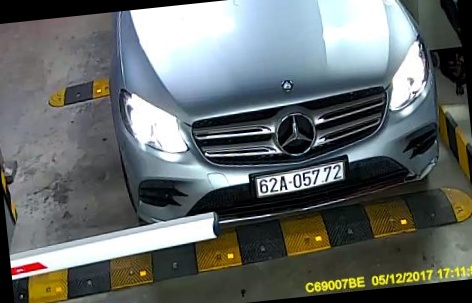plate: (248, 156, 356, 205)
